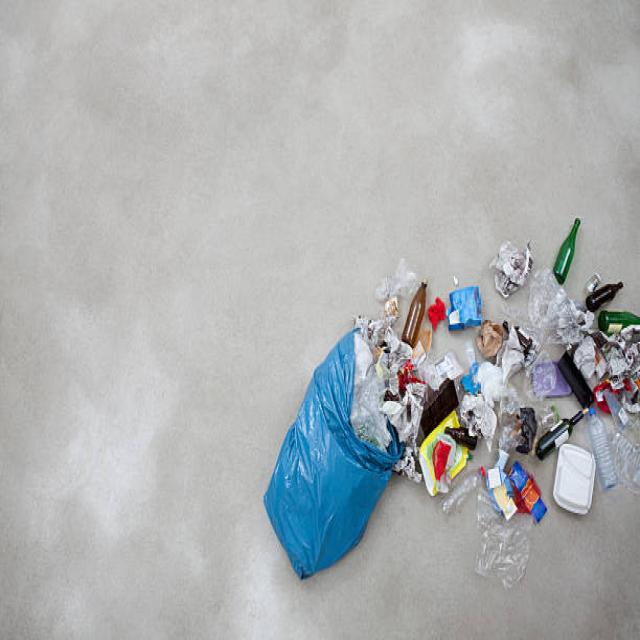glass: (545, 204, 590, 287), (528, 408, 589, 467), (402, 274, 429, 344), (572, 285, 629, 317)
plastic: (594, 411, 633, 500)
trash: (269, 329, 445, 562)
